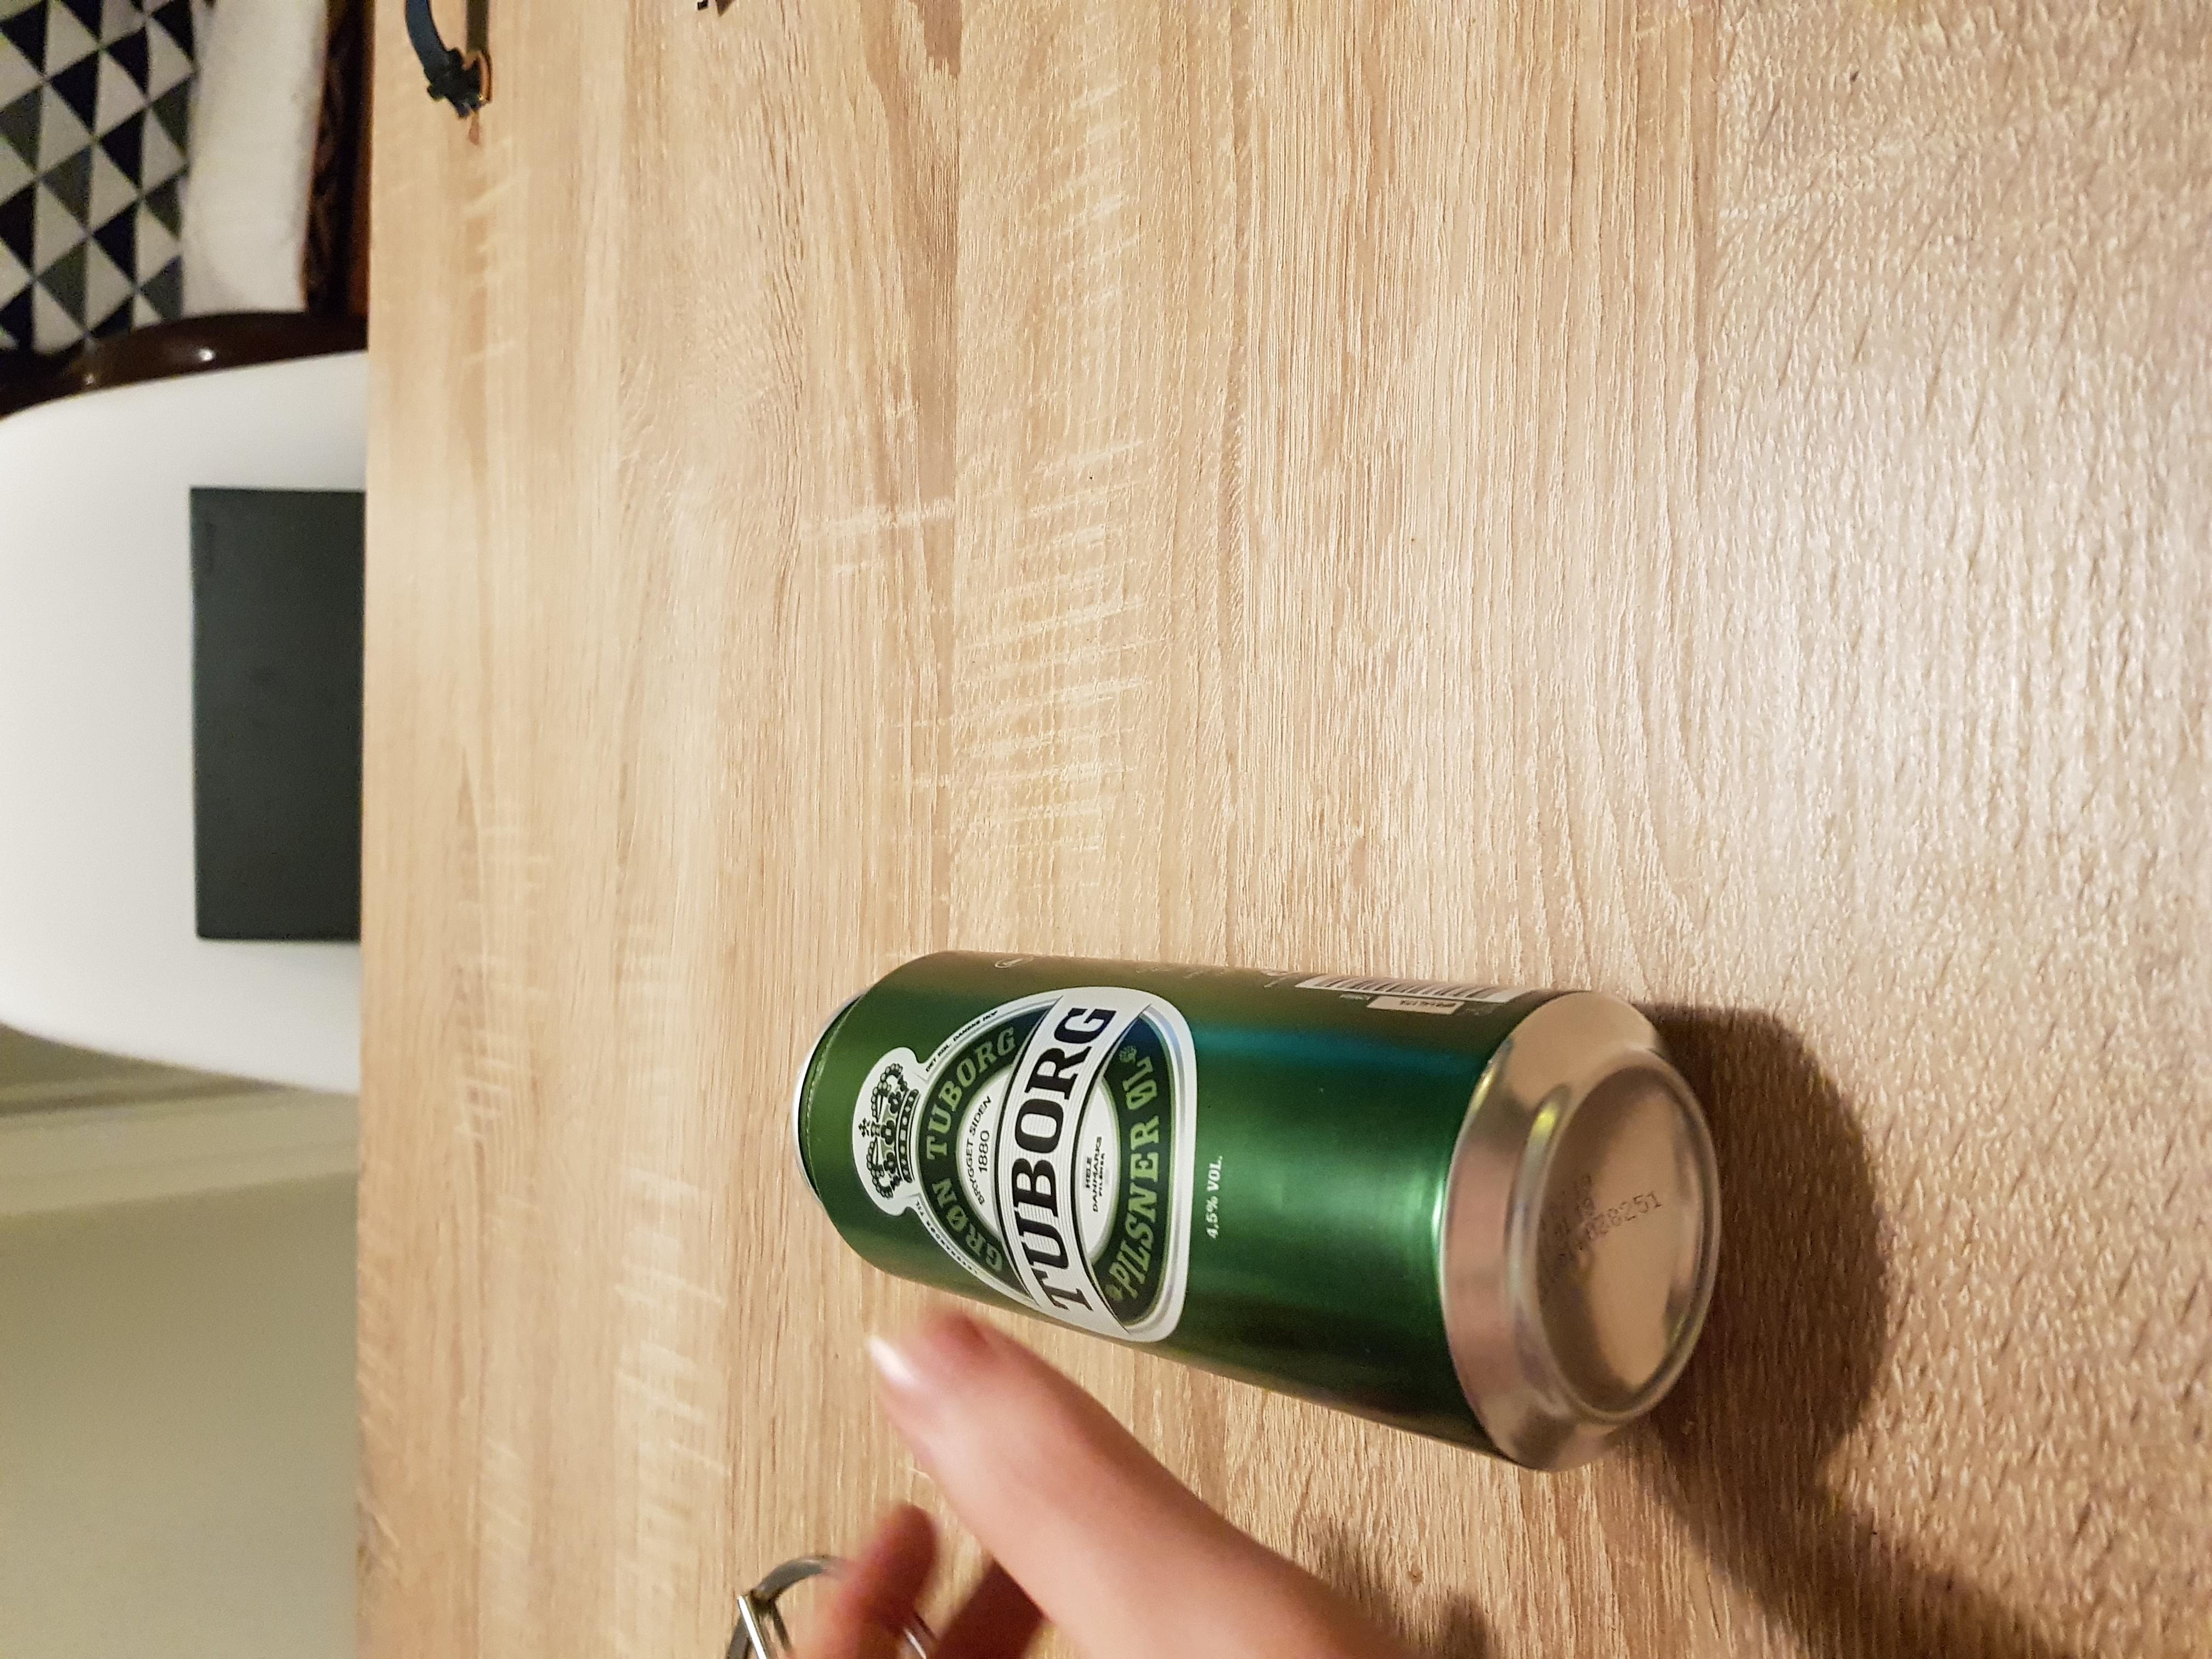can: (784, 946, 1719, 1466)
